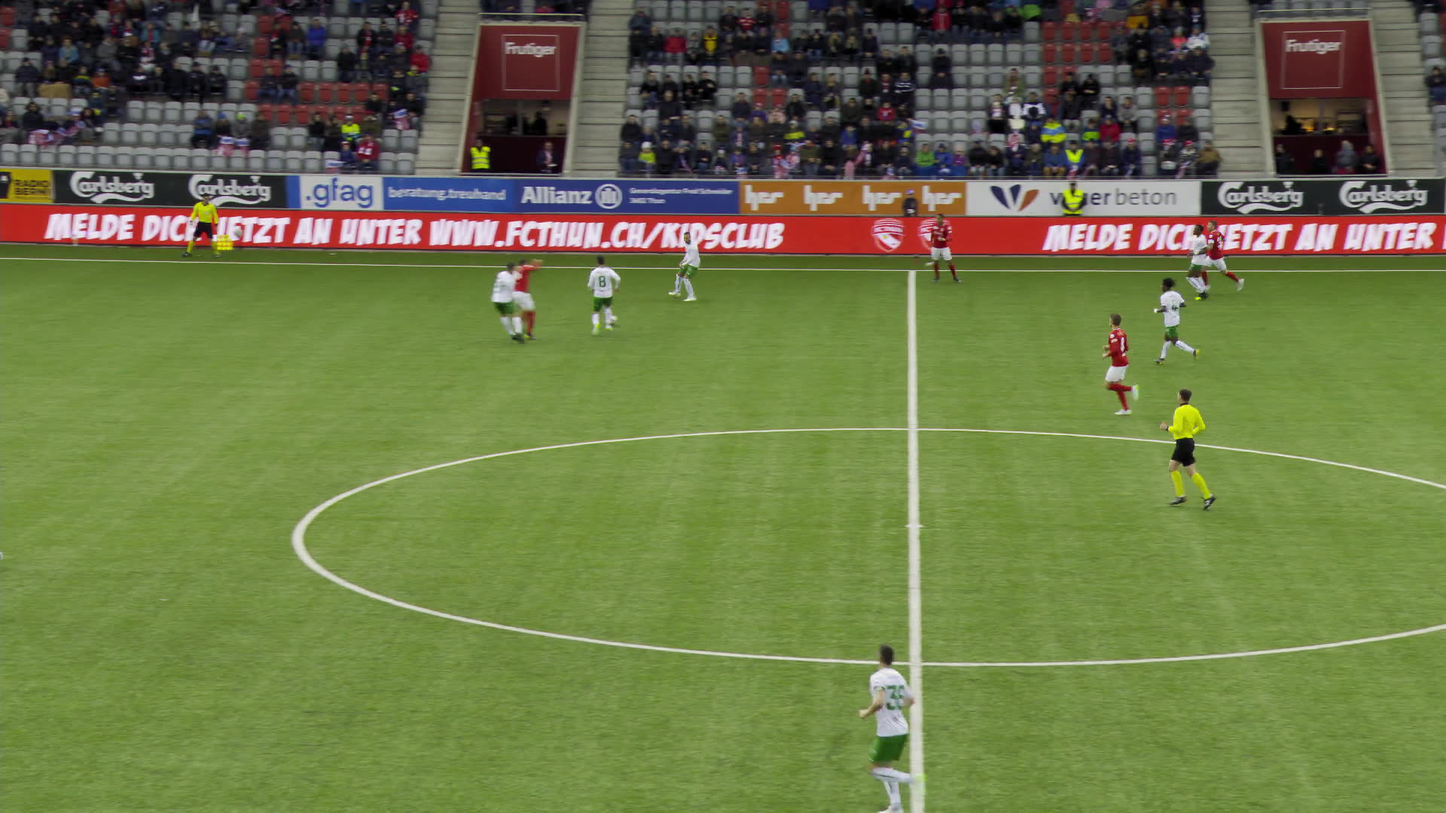ball: (595, 315, 612, 328)
player: (853, 642, 956, 811), (1097, 311, 1154, 416), (1151, 277, 1192, 367), (574, 257, 615, 336), (480, 261, 518, 343), (1197, 222, 1237, 295), (1177, 224, 1214, 300), (498, 255, 533, 334), (921, 214, 960, 284), (670, 230, 698, 301)
referee: (1157, 390, 1210, 510), (183, 190, 227, 260)
